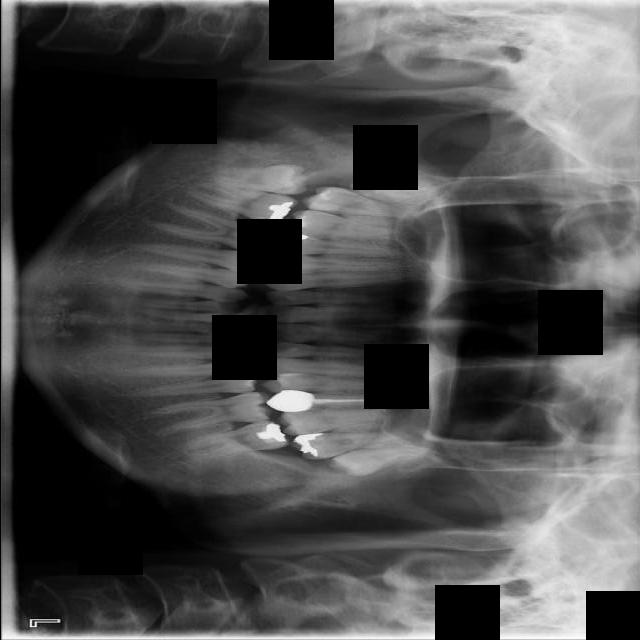3M ESPE Implant: (347, 164, 447, 214)
52: (244, 186, 299, 232), (283, 206, 344, 243), (239, 417, 290, 454), (228, 218, 275, 258), (301, 185, 361, 215), (289, 432, 345, 461), (264, 388, 315, 415), (275, 233, 323, 256), (224, 249, 260, 274), (222, 371, 258, 395)
73: (306, 387, 388, 410), (42, 596, 52, 604)
BioHorizons Implant: (288, 422, 413, 463)
BioLife Implant: (327, 437, 433, 481)
Blue Sky Bio Implant: (179, 416, 290, 463)
Caries: (301, 183, 422, 224)
Implant: (184, 178, 299, 229)
Keystone Dental Implant: (208, 164, 307, 195)
